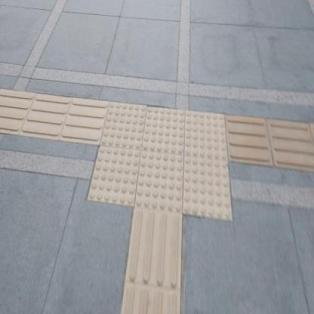Podoctatil: (74, 76, 248, 244), (117, 214, 186, 313), (0, 83, 99, 146), (228, 112, 314, 176)
